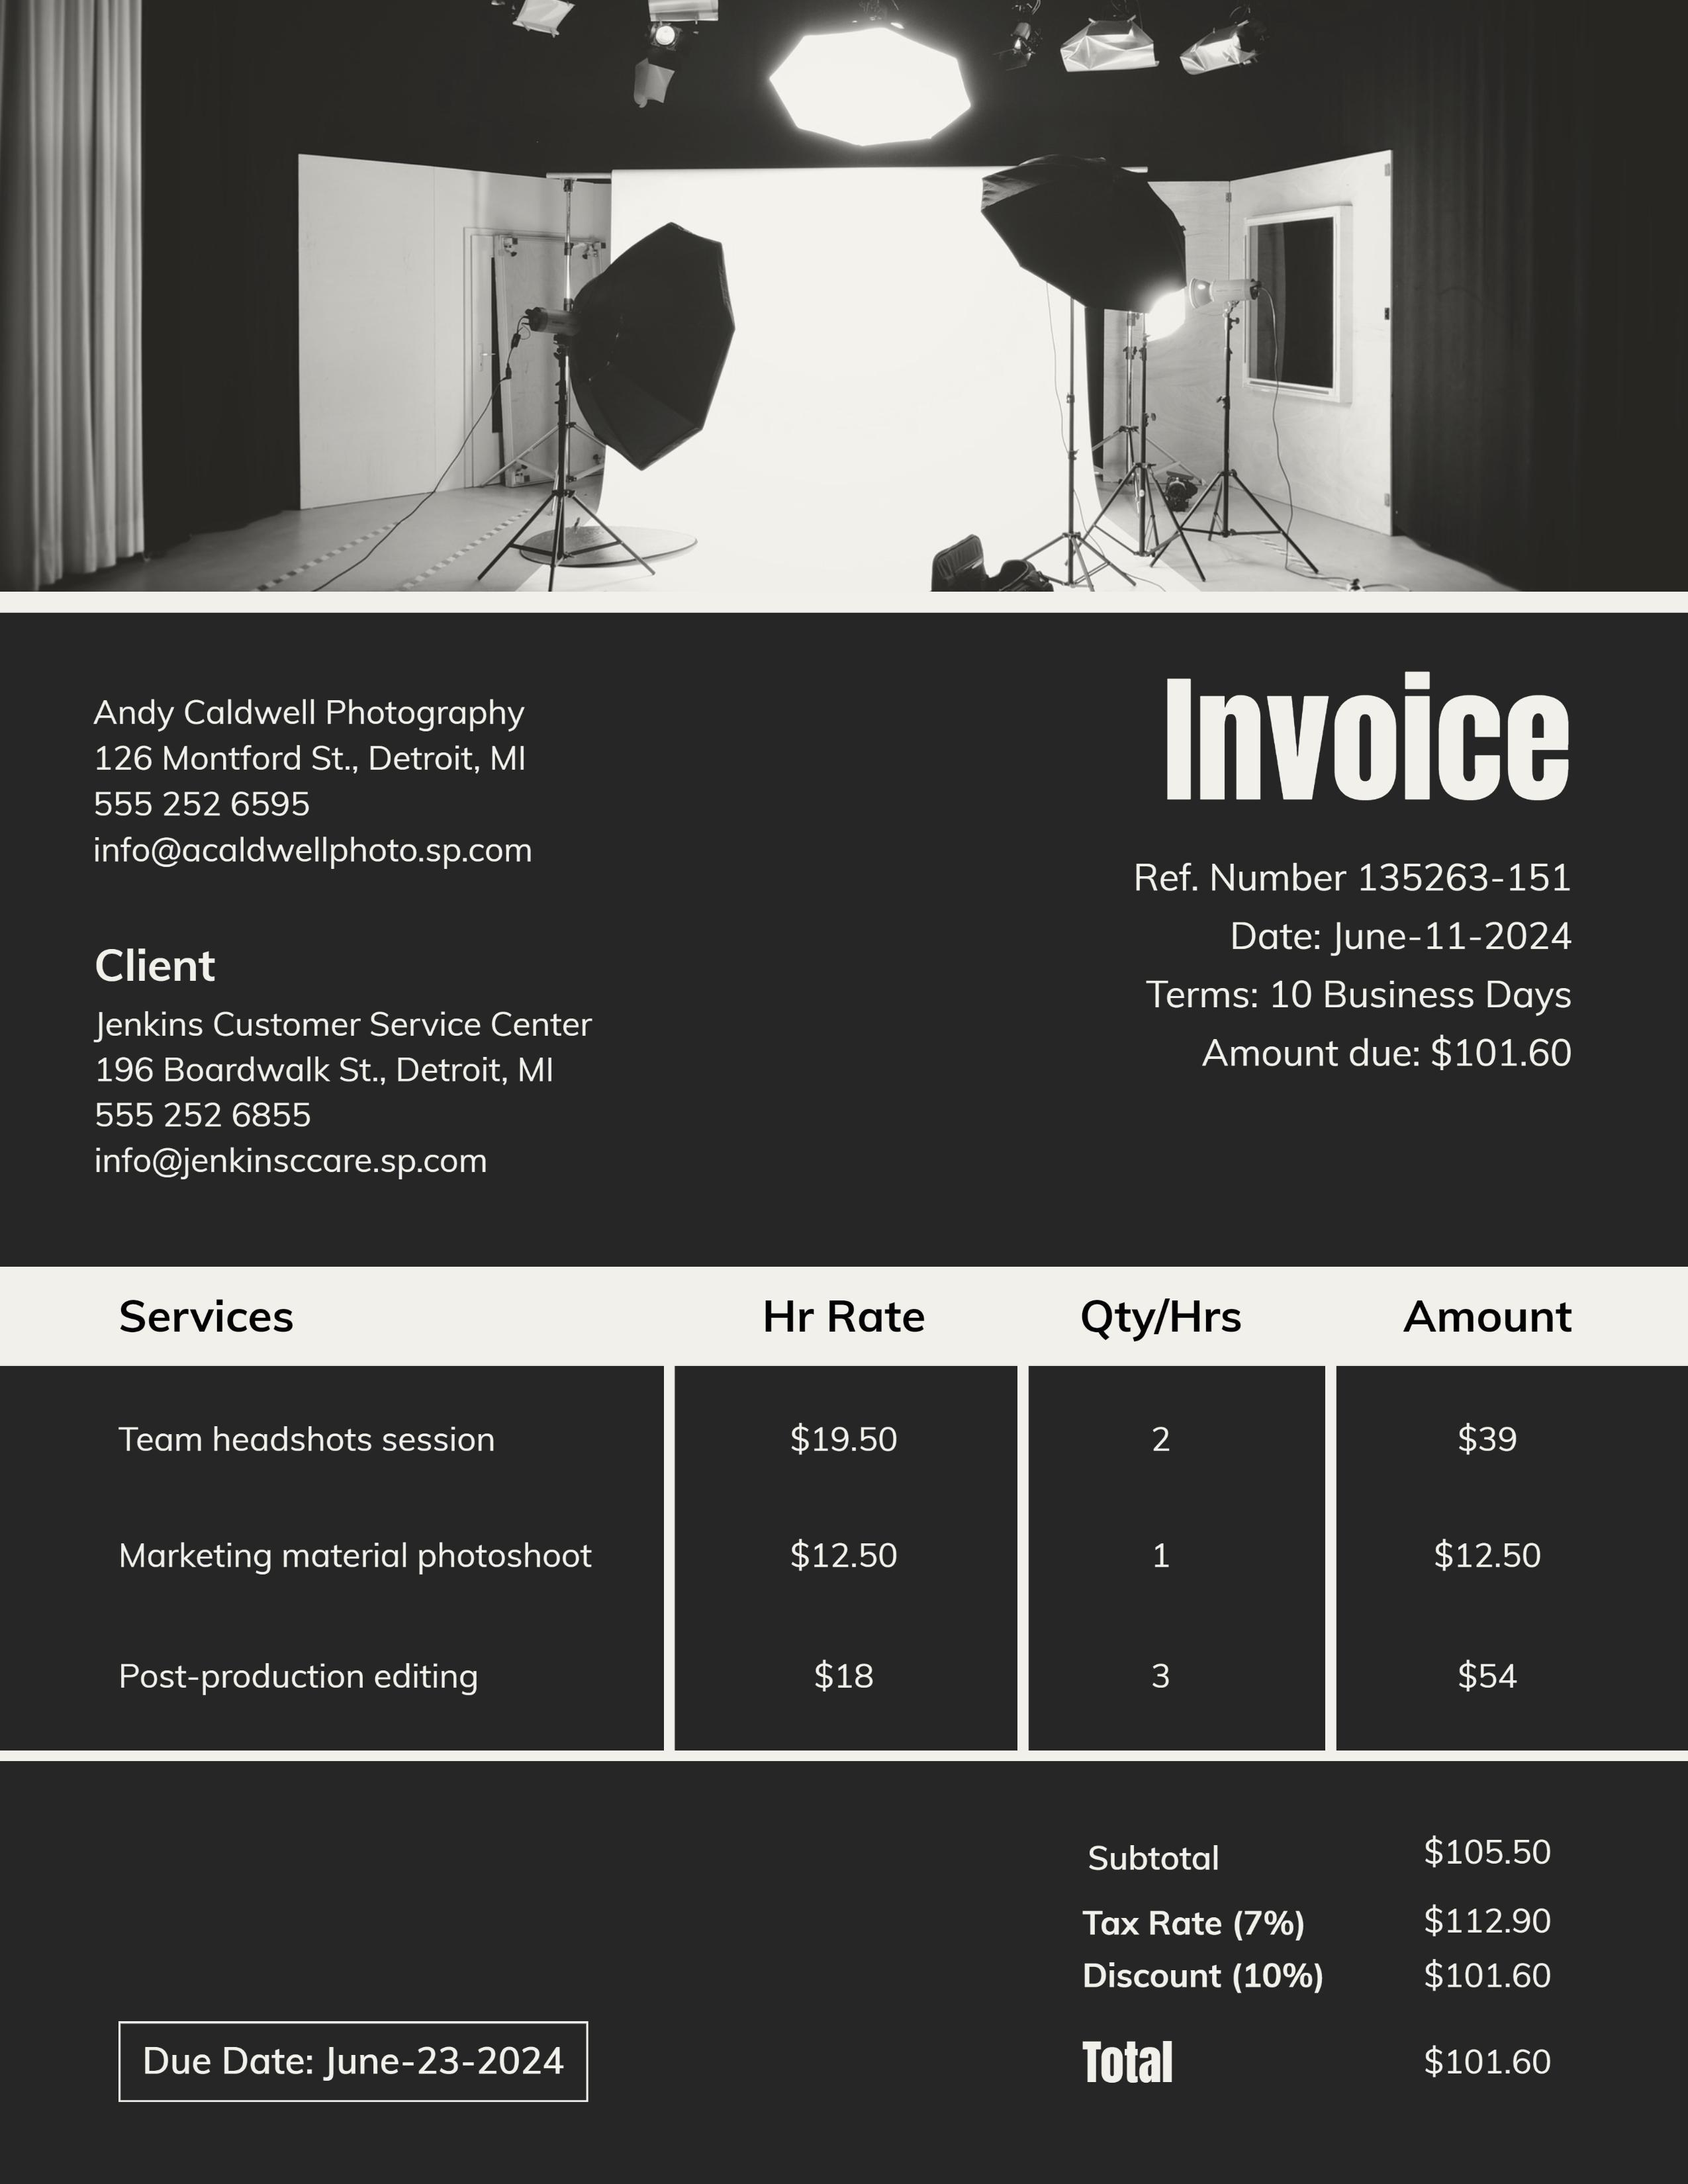ROI: (0, 1273, 1688, 1746), (1071, 1835, 1566, 2085), (87, 943, 601, 1182), (1121, 853, 1585, 1072), (87, 693, 551, 869)
